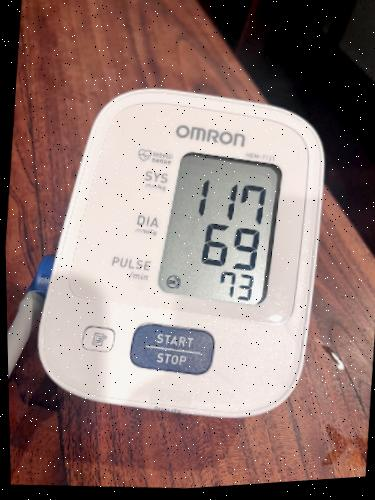bpm: (151, 146, 287, 311)
